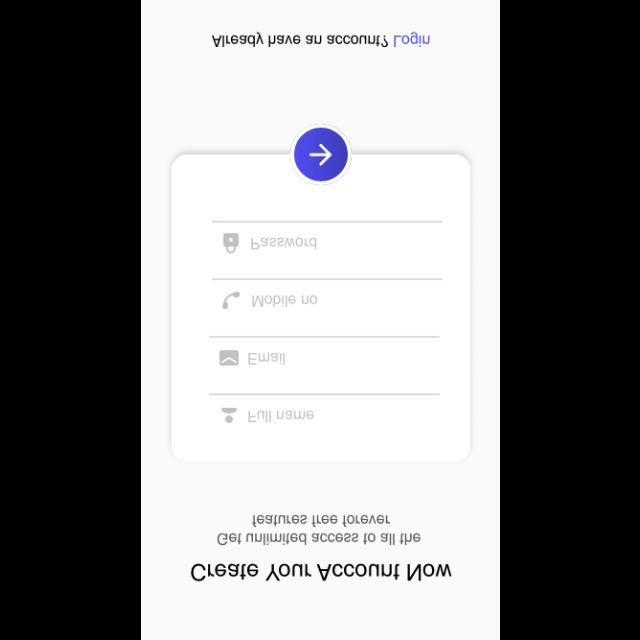icon: (290, 124, 352, 184), (223, 232, 239, 254), (219, 349, 239, 365), (221, 407, 237, 423)
image: (222, 291, 240, 309)
input: (211, 220, 443, 253), (211, 278, 443, 308), (208, 335, 440, 365), (208, 393, 440, 423)
panel: (170, 154, 470, 462)
text: (217, 514, 421, 544), (190, 562, 452, 582), (211, 32, 429, 48), (250, 237, 316, 249), (251, 295, 317, 307), (248, 410, 314, 422), (248, 352, 284, 364)
